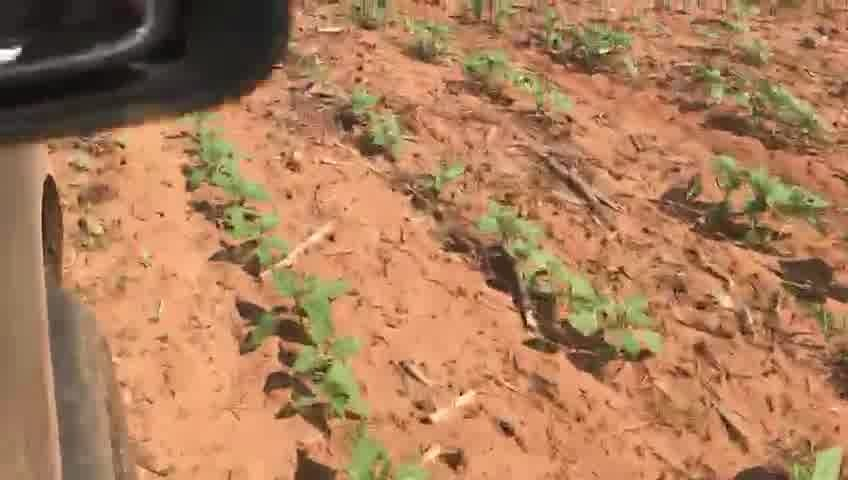sunflower: (263, 347, 380, 429), (240, 271, 354, 355), (748, 165, 830, 251), (567, 295, 656, 364), (212, 201, 292, 275), (295, 433, 433, 475), (342, 93, 418, 164), (516, 250, 595, 318), (688, 154, 751, 239), (480, 195, 551, 267), (183, 146, 263, 209), (464, 47, 516, 98), (404, 18, 458, 66), (415, 163, 469, 204), (517, 69, 562, 117)
